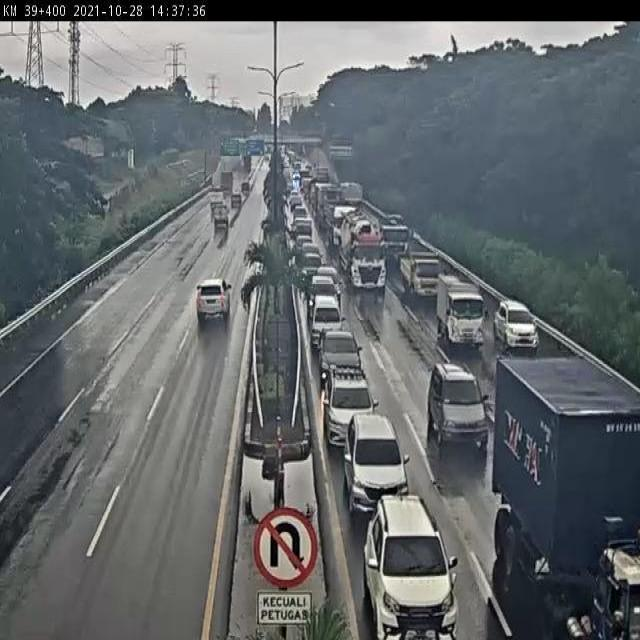big truck: (486, 346, 640, 640), (337, 210, 385, 290)
car: (362, 488, 462, 640), (340, 404, 413, 521), (423, 361, 487, 456), (320, 361, 379, 456), (317, 324, 365, 393), (490, 292, 541, 349), (189, 274, 236, 329), (309, 288, 346, 352), (307, 272, 342, 319), (313, 264, 343, 312), (297, 251, 326, 289)
small truck: (433, 271, 484, 349), (396, 244, 439, 299)
